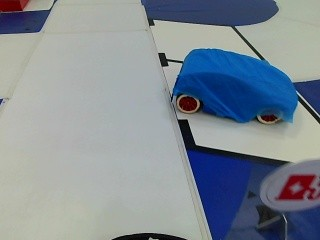battery: (273, 165, 318, 211)
car: (163, 48, 301, 131)
